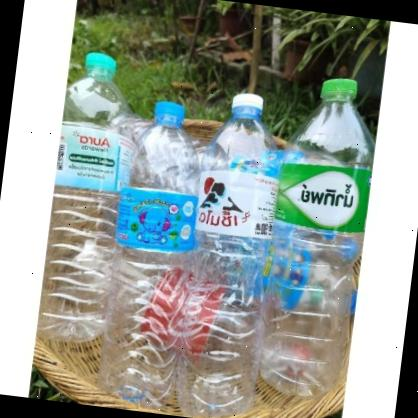bottle: (253, 72, 382, 400), (170, 86, 287, 418), (94, 96, 208, 415), (35, 49, 139, 348)
cap: (320, 76, 357, 102), (154, 98, 184, 124), (230, 92, 264, 114), (84, 51, 115, 75)
label: (274, 158, 371, 236), (193, 166, 277, 240), (116, 186, 196, 253), (53, 125, 126, 194)
